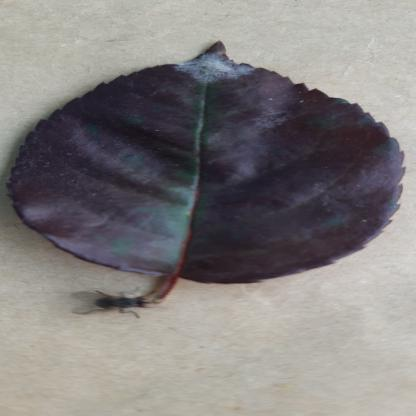powdery-mildew: (3, 41, 404, 286)
